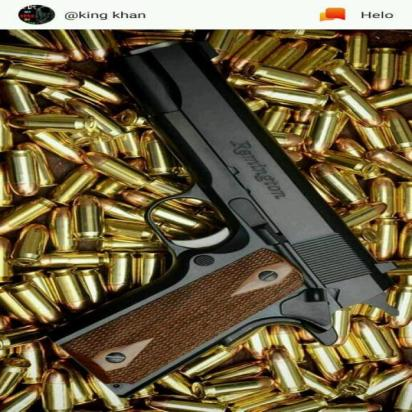Gun: (43, 34, 411, 406)
